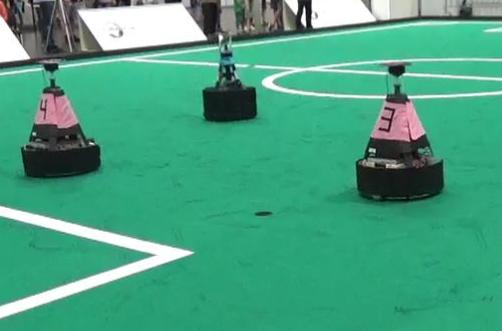robot: (353, 58, 448, 203), (17, 59, 103, 180), (200, 29, 262, 123)
